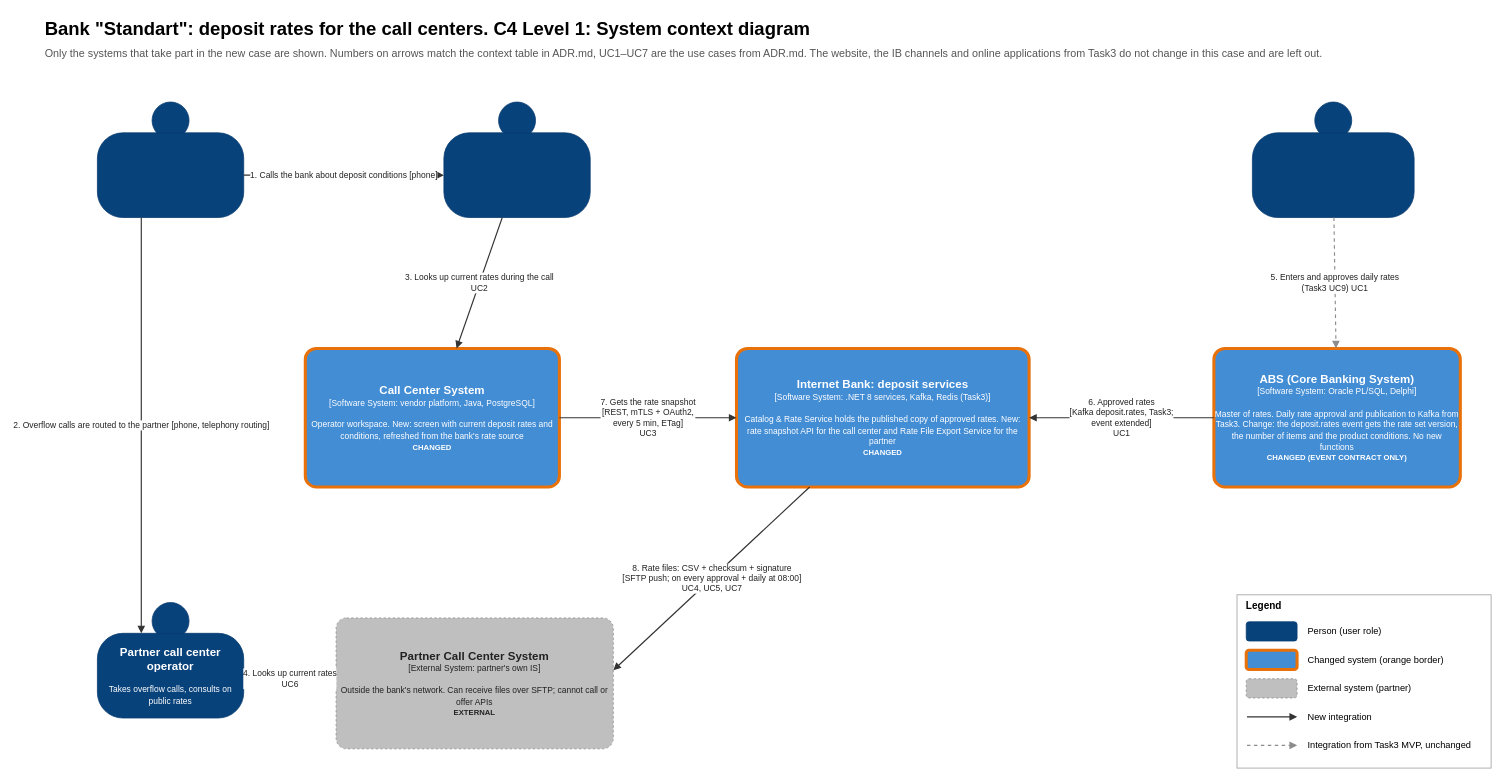
Image size: 1505x782. Some labels were removed from this diagram. Here are the shapes that lost their labels. From the top down, the centre of each, then its label:
the point at 170,175: Client Often an elderly client; calls to ask about deposit conditions
the point at 516,175: Bank call center operator Consults clients by phone
the point at 1333,175: Credit and deposit back office Maintain and approve the daily rates (Task3 UC9)
